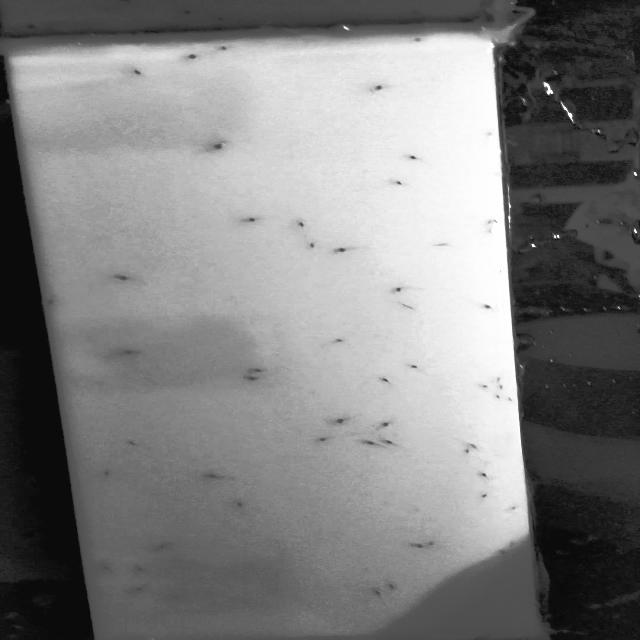shrimp: (367, 169, 425, 193), (394, 147, 438, 173), (359, 80, 402, 100), (109, 338, 143, 362), (228, 368, 265, 388), (122, 59, 153, 80), (368, 420, 400, 439), (493, 545, 522, 565), (409, 536, 443, 553), (205, 135, 237, 153), (110, 272, 146, 288), (196, 467, 228, 484), (43, 292, 68, 313), (121, 434, 150, 452), (96, 463, 122, 482), (390, 300, 422, 315), (329, 412, 351, 432), (286, 217, 314, 232), (93, 563, 123, 576), (334, 244, 356, 261), (403, 360, 426, 376), (148, 541, 174, 555), (240, 212, 264, 227), (472, 468, 494, 484), (477, 298, 496, 316), (329, 334, 349, 351), (232, 497, 254, 512), (128, 582, 150, 597), (428, 239, 449, 254), (184, 47, 204, 62), (168, 592, 191, 605), (217, 42, 235, 58), (387, 284, 411, 296), (369, 588, 393, 600), (378, 436, 398, 450), (372, 375, 398, 385), (361, 437, 381, 450), (252, 360, 268, 376), (502, 503, 525, 514), (465, 441, 485, 453), (385, 581, 405, 593), (408, 32, 424, 47), (131, 564, 150, 576), (478, 487, 492, 502), (455, 444, 470, 456), (306, 242, 322, 253), (503, 394, 518, 404), (490, 392, 503, 400), (493, 373, 503, 382), (480, 384, 494, 390), (496, 383, 506, 391)
